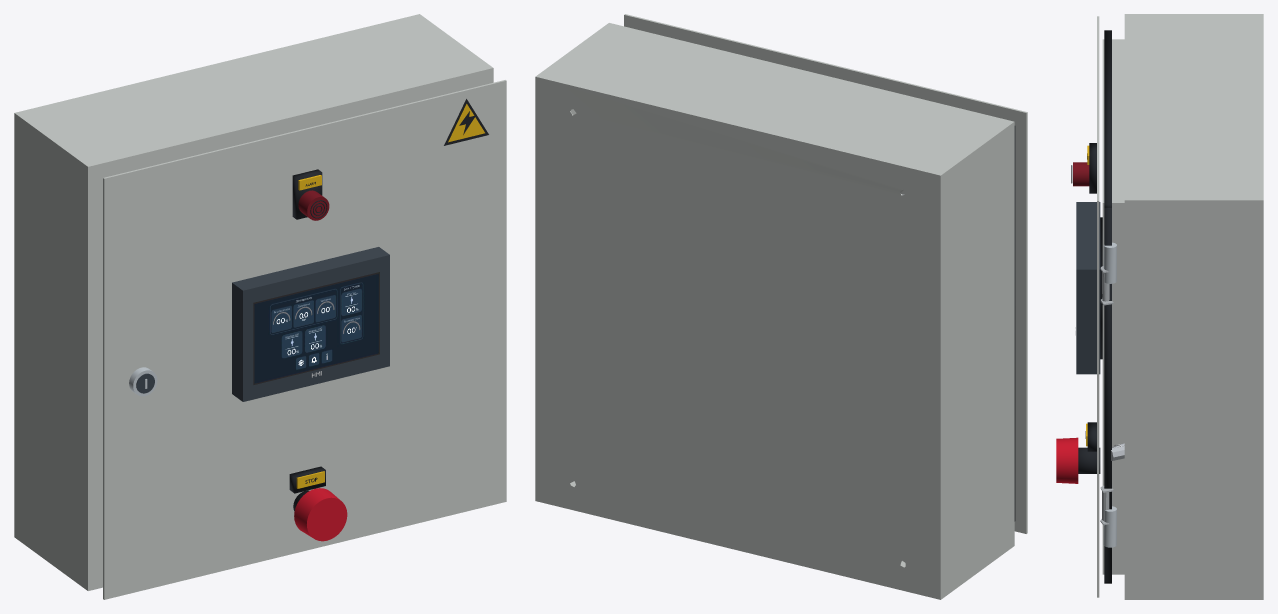
Rendered from cascade-Bky7Y6ng.glb.
The picture shows the model from 3 angles, left to right: view 1: azimuth 30°, elevation 25°; view 2: azimuth 150°, elevation 25°; view 3: azimuth 270°, elevation 25°; orthographic projection. The views are drawn at different scales.
Visible parts, largest first — view 1: cascade_door / grey, cascade_body / grey, cascade_door / HMI IMG_20260928_193400.jpg, cascade_door / dark, cascade_door / red, cascade_door / black, cascade_door / yellow, cascade_door / darkred; view 2: cascade_body / grey, cascade_door / grey, cascade_door / black; view 3: cascade_body / grey, cascade_door / black, cascade_door / dark, cascade_door / grey, cascade_door / red, cascade_body / steel, cascade_body / zinc, cascade_door / darkred.
Boxes of the visible parts, x1,y1,x2,y2 form: cascade_door / grey: (103, 80, 506, 599); cascade_body / grey: (14, 14, 493, 590); cascade_door / HMI IMG_20260928_193400.jpg: (253, 272, 379, 384); cascade_door / dark: (136, 247, 389, 401); cascade_door / red: (294, 488, 347, 541); cascade_door / black: (289, 99, 488, 511); cascade_door / yellow: (296, 104, 484, 488); cascade_door / darkred: (298, 190, 329, 220); cascade_body / grey: (535, 23, 1014, 599); cascade_door / grey: (624, 14, 1027, 533); cascade_door / black: (1014, 126, 1015, 521); cascade_body / grey: (1102, 14, 1263, 599); cascade_door / black: (1071, 30, 1111, 583); cascade_door / dark: (1076, 202, 1100, 374); cascade_door / grey: (1097, 16, 1099, 597); cascade_door / red: (1056, 437, 1078, 483); cascade_body / steel: (1103, 242, 1116, 547); cascade_body / zinc: (1100, 266, 1113, 525); cascade_door / darkred: (1073, 162, 1089, 186).
Bounding box in the file's own units: 0.4 × 0.416 × 0.188.
Materials: 18 (1 with a texture image).
